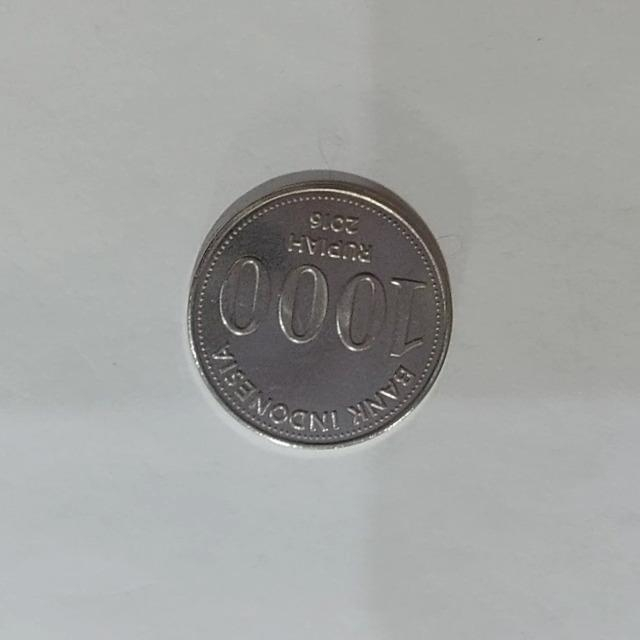Rp100: (184, 167, 454, 450)
